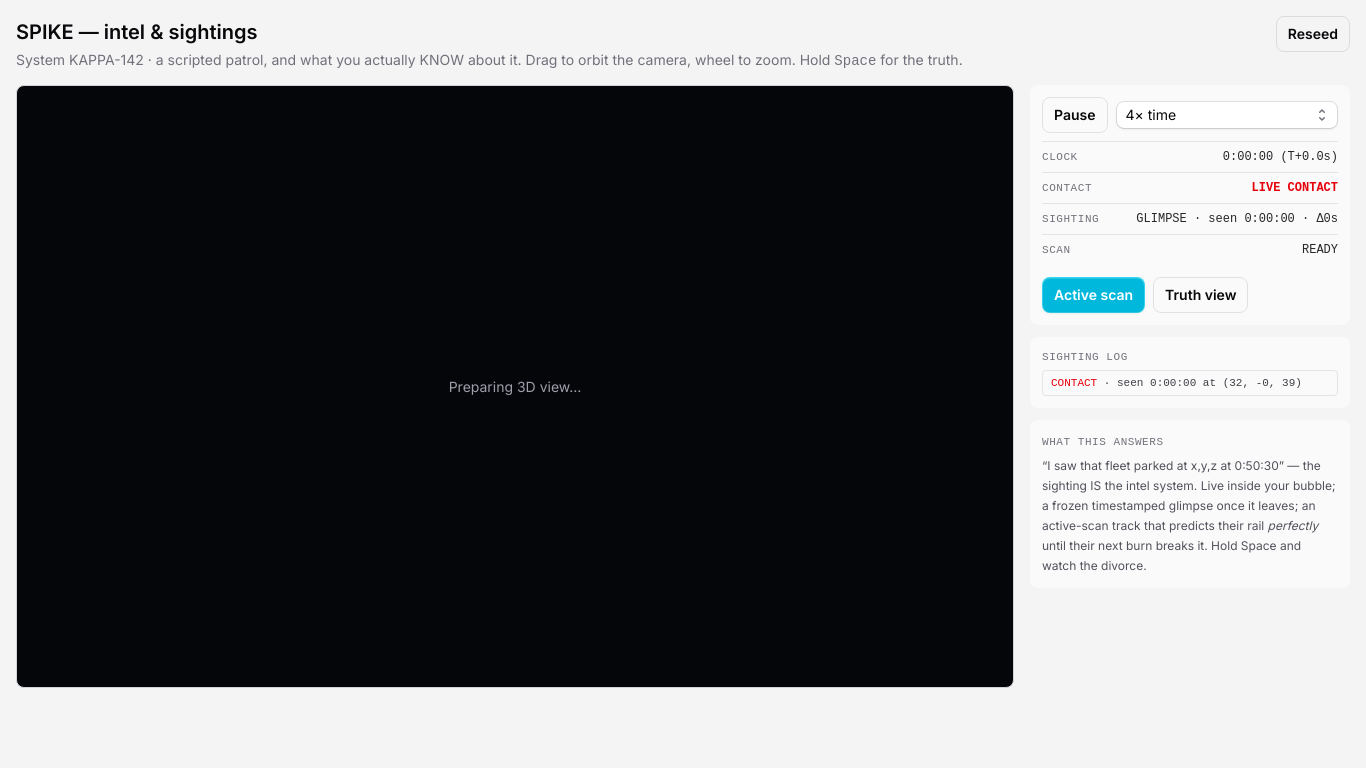
intel spike page › reseeds into a fresh system and resets knowledge
The image size is (1366, 768).
Click the button with test id "ctl-scan".
click(1094, 295)  # box [1042, 277, 1145, 313]
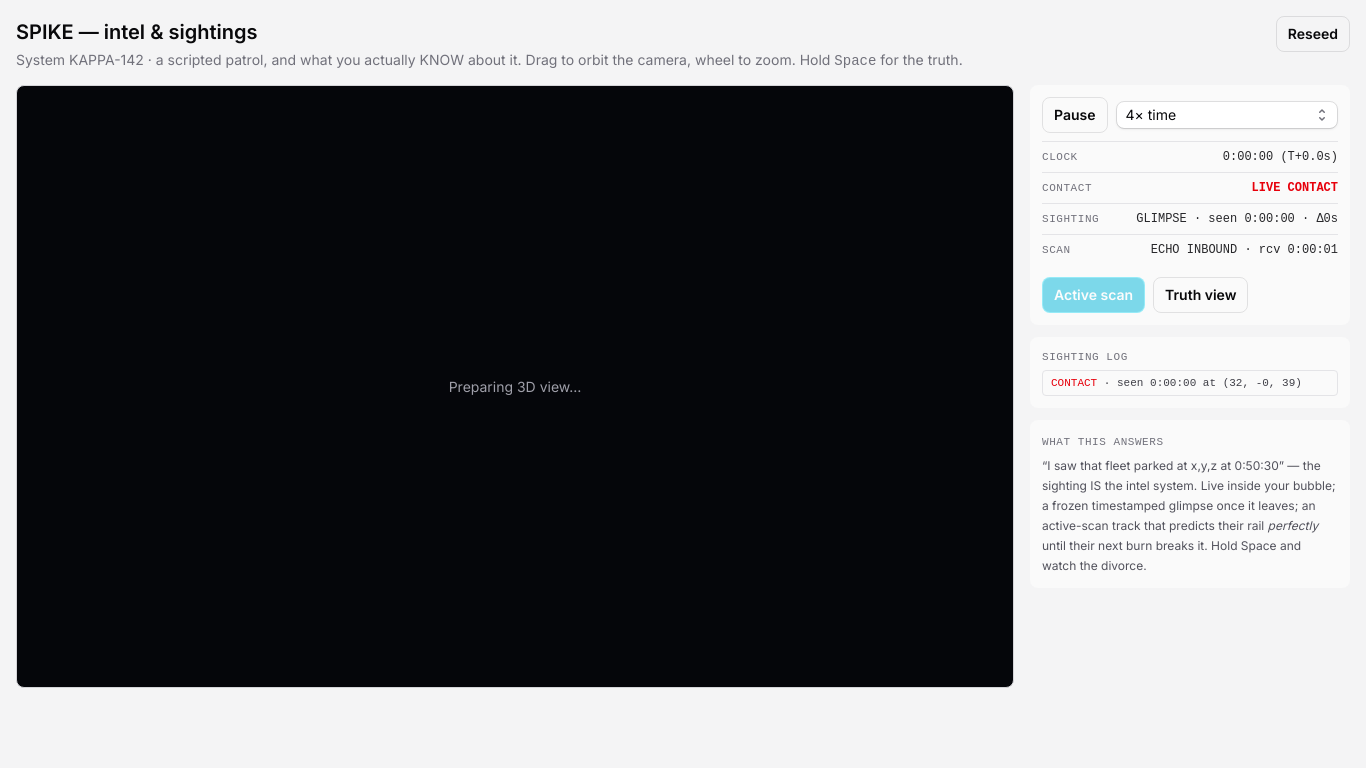
Click the button with test id "ctl-reseed".
click(1313, 34)  # box [1276, 16, 1350, 52]
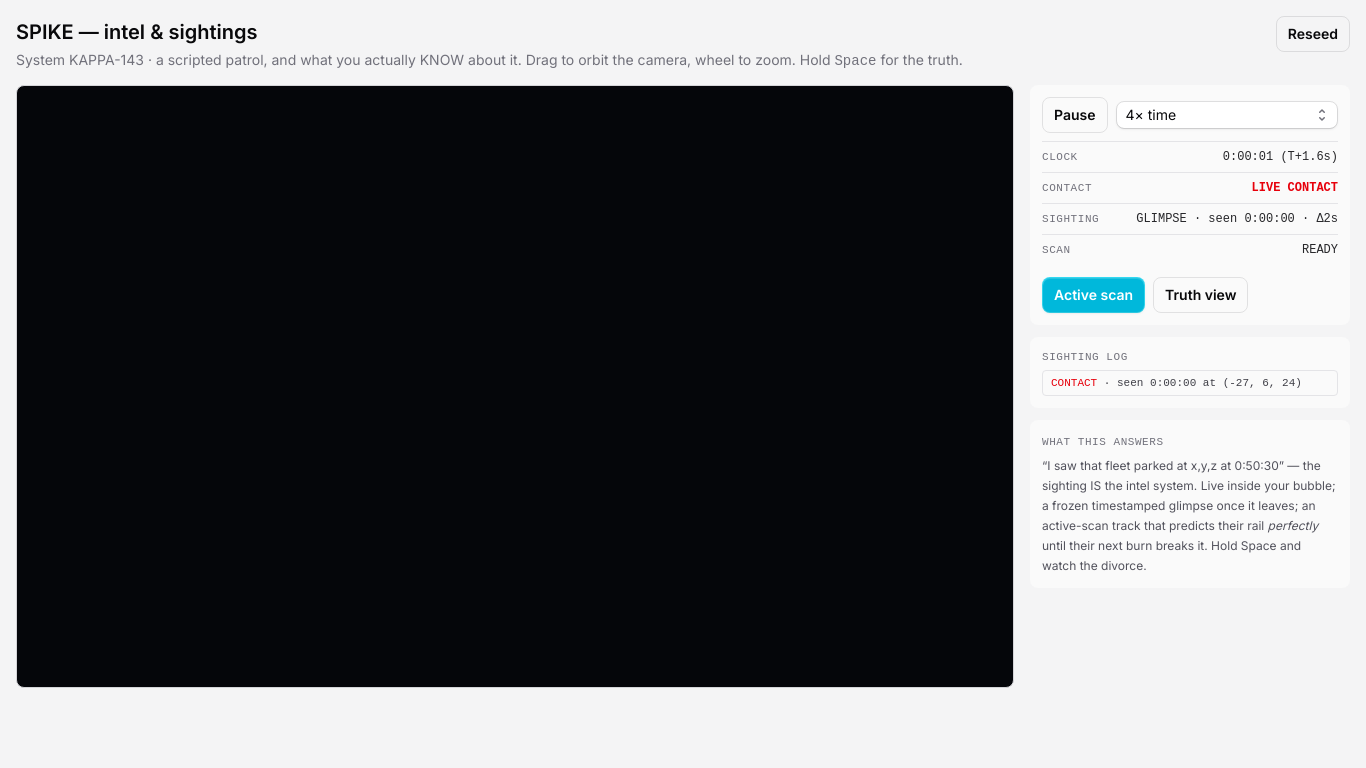
Check: the text with test id "hud-scan" reads "READY", box [1302, 243, 1338, 257]
Check: the button with test id "ctl-scan" is enabled, box [1042, 277, 1145, 313]
